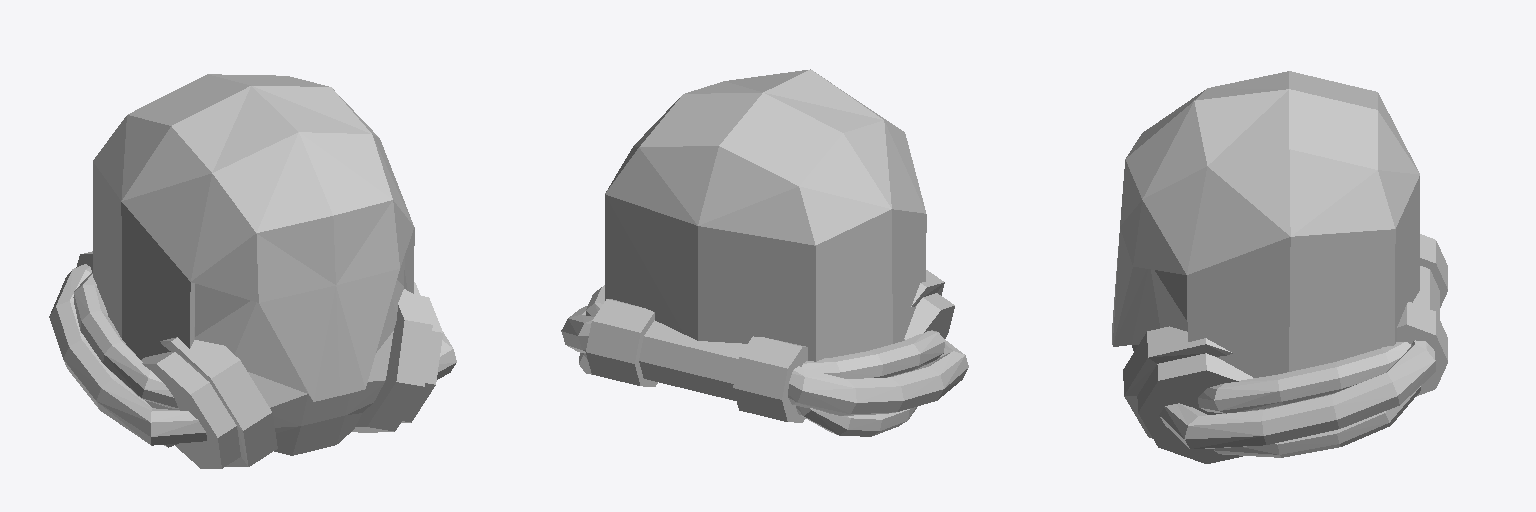
The model's file is mps_helm.obj.
3 renders of one model, left to right at view 1: azimuth 30°, elevation 25°; view 2: azimuth 150°, elevation 25°; view 3: azimuth 270°, elevation 25°, orthographic.
Parts seen in each view (by area): view 1: helm_main, helm_tube_entry1, visor, helm_tubes; view 2: helm_main, helm_tube_entry2, helm_tubes, helm_tube_entry1; view 3: helm_main, helm_tubes, helm_tube_entry1, helm_tube_entry2, visor.
Boxes of the visible parts, <box> form: helm_main: <box>93,74,414,401</box>; helm_tube_entry1: <box>141,282,442,468</box>; visor: <box>195,256,404,455</box>; helm_tubes: <box>49,264,456,447</box>; helm_main: <box>605,69,926,361</box>; helm_tube_entry2: <box>586,299,807,422</box>; helm_tubes: <box>561,285,968,436</box>; helm_tube_entry1: <box>904,270,954,340</box>; helm_main: <box>1112,71,1419,377</box>; helm_tubes: <box>1159,340,1435,457</box>; helm_tube_entry1: <box>1123,326,1265,463</box>; helm_tube_entry2: <box>1397,234,1447,396</box>; visor: <box>1131,269,1187,351</box>.
Size of the model in its own units: 15.32 by 14.55 by 13.3.